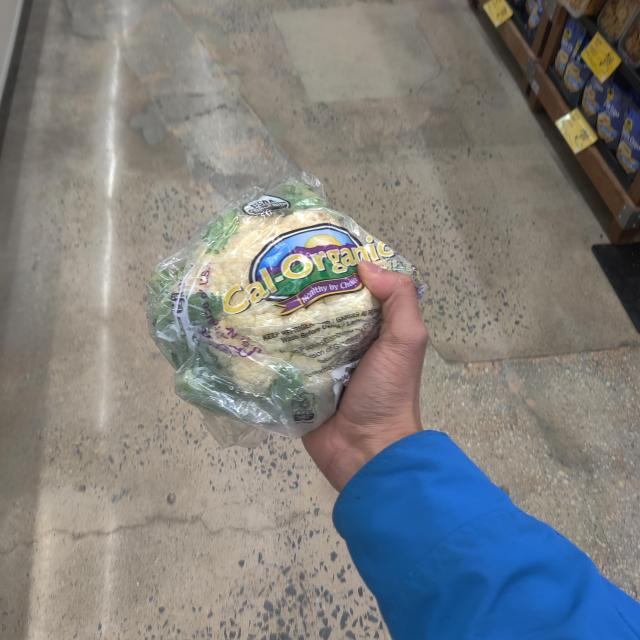Cauliflower: (152, 179, 421, 439)
